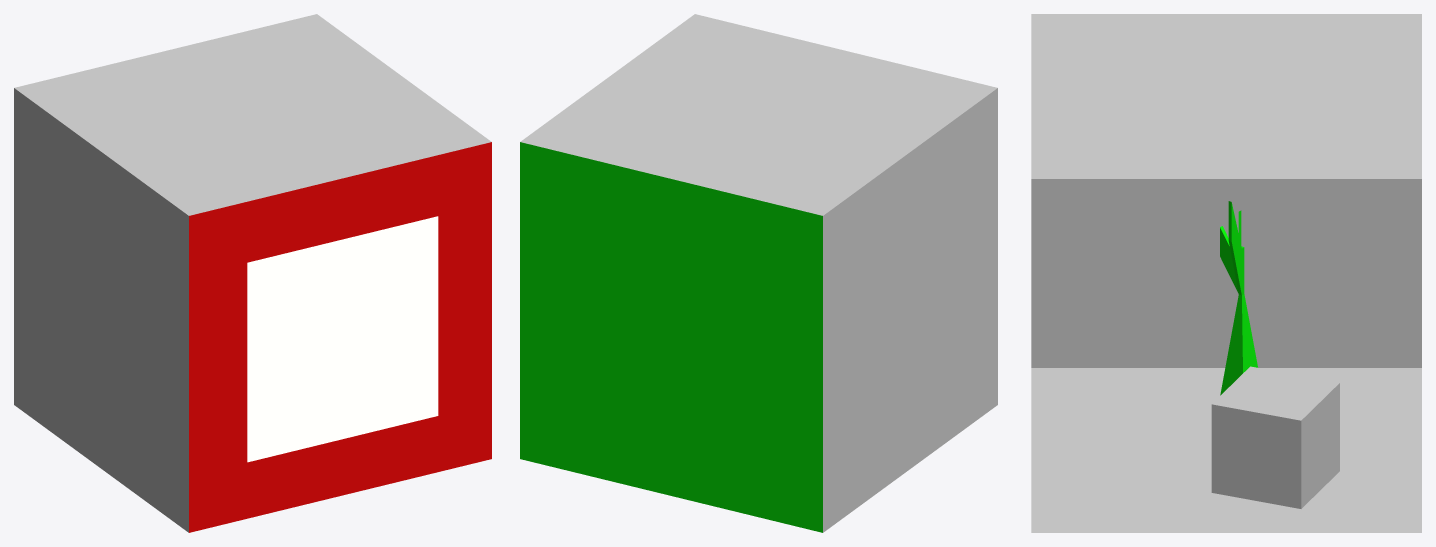
File: my_cornell_4.gltf
The picture shows the model from 3 angles, left to right: view 1: azimuth 30°, elevation 25°; view 2: azimuth 150°, elevation 25°; view 3: azimuth 270°, elevation 25°; orthographic projection. The views are drawn at different scales.
Parts seen in each view (by area): view 1: LeftWall, BackWall, Ceiling, Light, NotLight; view 2: RightWall, BackWall, Ceiling, NotLight; view 3: BackWall, Ceiling, Floor, Cube, NotLight, Cube.001.
Part boxes in pixels (x1,y1,x2,y2): LeftWall: (189, 142, 491, 532); BackWall: (14, 88, 188, 532); Ceiling: (14, 14, 491, 215); Light: (247, 216, 438, 462); NotLight: (197, 91, 308, 138); RightWall: (520, 142, 822, 532); BackWall: (823, 88, 997, 532); Ceiling: (520, 14, 997, 215); NotLight: (703, 91, 814, 138); BackWall: (1031, 179, 1421, 367); Ceiling: (1031, 14, 1421, 178); Floor: (1031, 368, 1421, 532); Cube: (1211, 366, 1339, 508); NotLight: (1181, 77, 1272, 115); Cube.001: (1220, 201, 1257, 395).
Size of the model in its own units: 8 by 8 by 8.11.
